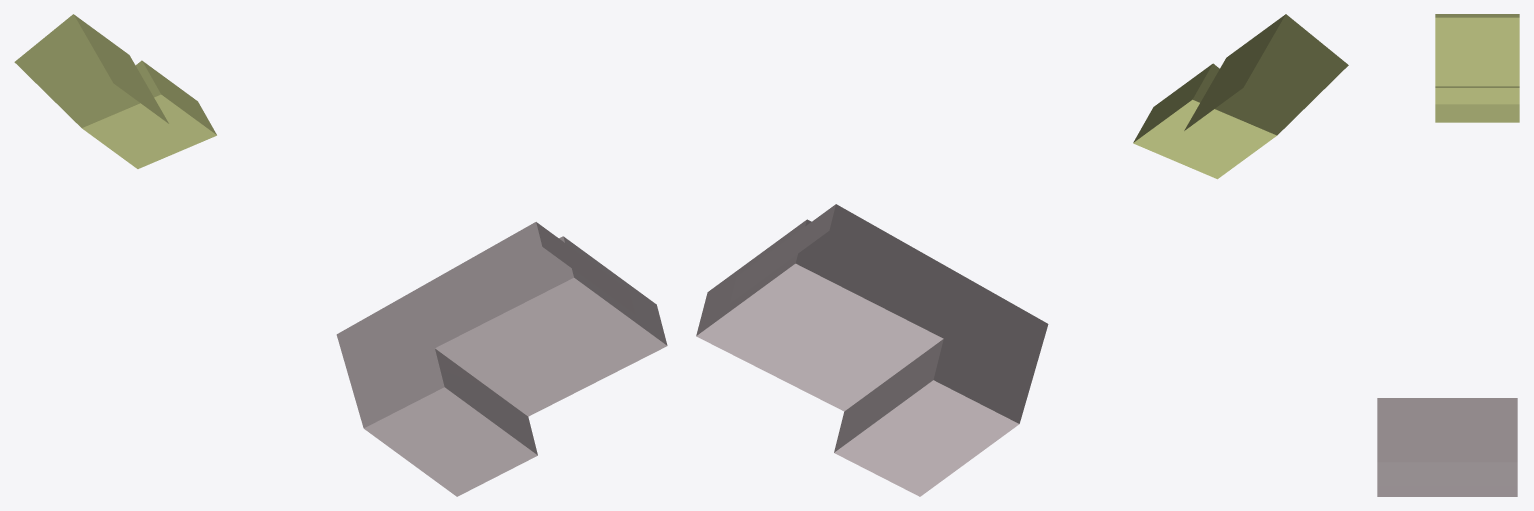
3 renders of one model, left to right at view 1: azimuth 30°, elevation 25°; view 2: azimuth 150°, elevation 25°; view 3: azimuth 270°, elevation 25°, orthographic. The views are drawn at different scales.
Visible parts, largest first — view 1: 0_3_1_3_0_0_0_3; view 2: 0_3_1_3_0_0_0_3; view 3: 0_3_1_3_0_0_0_3.
Boxes of the visible parts, box(x1,y1,x2,y2) form: 0_3_1_3_0_0_0_3: box(14, 14, 667, 496); 0_3_1_3_0_0_0_3: box(696, 14, 1348, 496); 0_3_1_3_0_0_0_3: box(1377, 14, 1519, 496).
Bounding box in the file's own units: 51.74 × 42.86 × 15.2.
